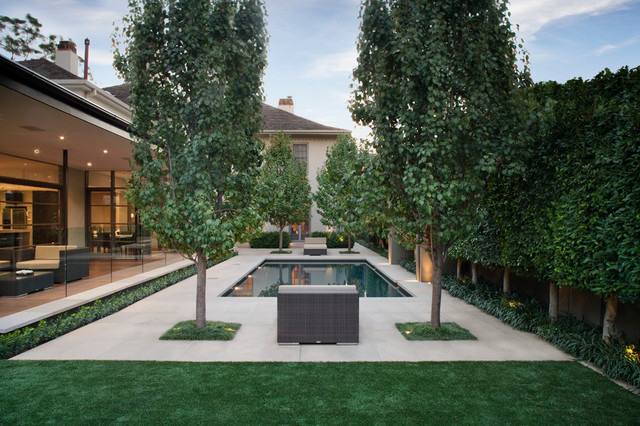tree: (343, 1, 548, 325), (106, 1, 279, 336), (572, 83, 639, 355), (317, 131, 379, 252), (259, 133, 311, 259)
